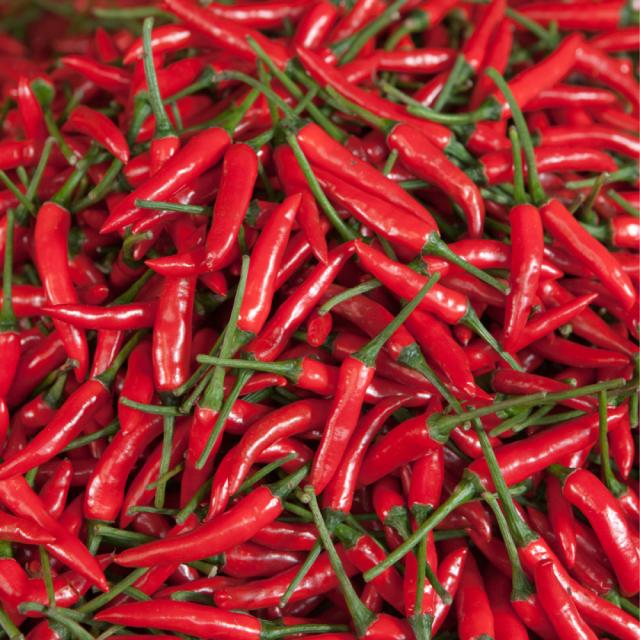Chilli Pepper: (329, 383, 640, 638), (8, 22, 307, 224), (440, 102, 640, 360), (141, 406, 397, 602), (272, 102, 525, 286), (406, 384, 640, 581), (154, 88, 339, 318), (253, 110, 448, 328), (350, 0, 639, 142), (173, 316, 467, 446), (80, 210, 254, 424), (0, 450, 189, 624), (62, 352, 218, 555), (165, 355, 262, 517)
